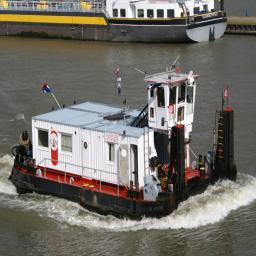tugboat: (9, 62, 242, 230)
